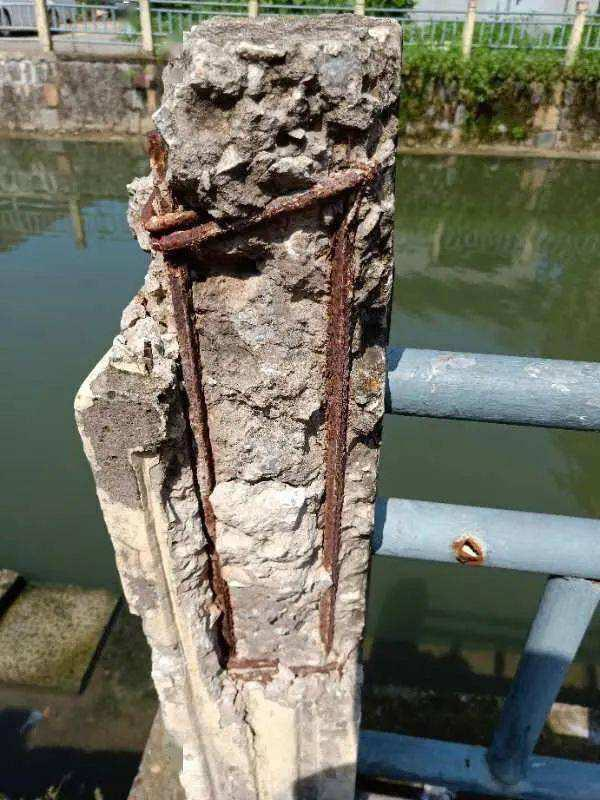Corrosion: (449, 536, 485, 566)
Exposed reinforcement: (164, 251, 235, 656), (146, 158, 382, 252), (317, 190, 360, 655), (140, 129, 200, 234), (286, 660, 344, 680), (217, 656, 282, 670), (228, 670, 276, 688)
Spalling: (109, 15, 405, 709), (462, 541, 480, 557)
